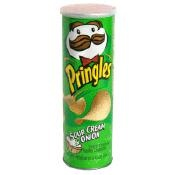grozi_35: (59, 4, 115, 170)
